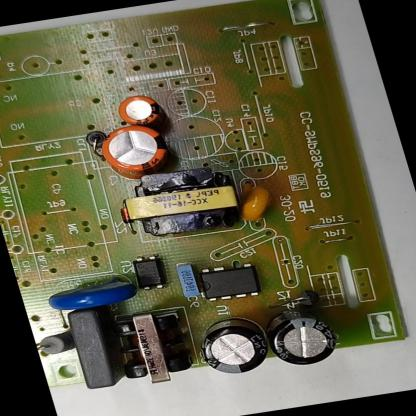Cap1: (88, 119, 184, 187)
Cap2: (111, 88, 174, 132)
Cap3: (193, 310, 280, 386)
Cap4: (254, 295, 349, 373)
MOSFET: (191, 258, 269, 310)
Mov: (40, 271, 142, 316)
Resistor: (34, 332, 76, 362)
Transformer: (113, 162, 254, 247), (105, 307, 204, 395)
